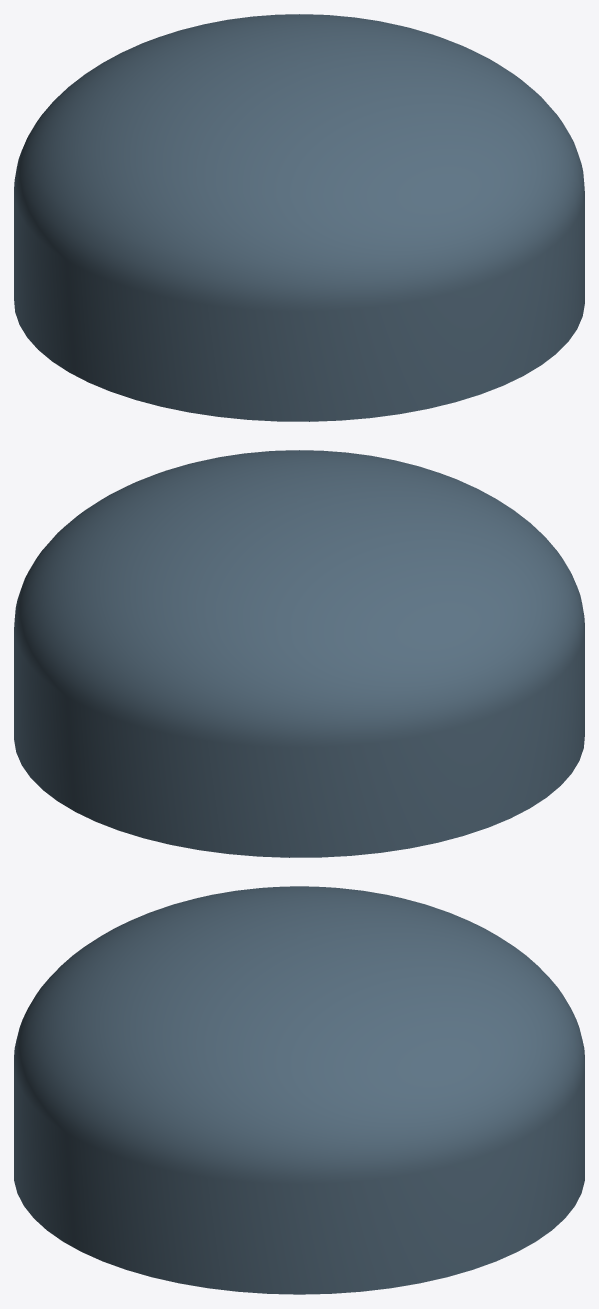
Rendered from zaglushka-108x4-H50.glb.
3 views of the same model, one above another, from view 1: azimuth 30°, elevation 25°; view 2: azimuth 150°, elevation 25°; view 3: azimuth 270°, elevation 25° (orthographic).
Parts seen in each view (by area): view 1: Open CASCADE STEP translator 7.9 8; view 2: Open CASCADE STEP translator 7.9 8; view 3: Open CASCADE STEP translator 7.9 8.
Boxes of the visible parts, <box> form: Open CASCADE STEP translator 7.9 8: <box>14,14,584,421</box>; Open CASCADE STEP translator 7.9 8: <box>14,450,584,857</box>; Open CASCADE STEP translator 7.9 8: <box>14,886,584,1294</box>.
Size of the model in its own units: 108 by 50 by 108.
